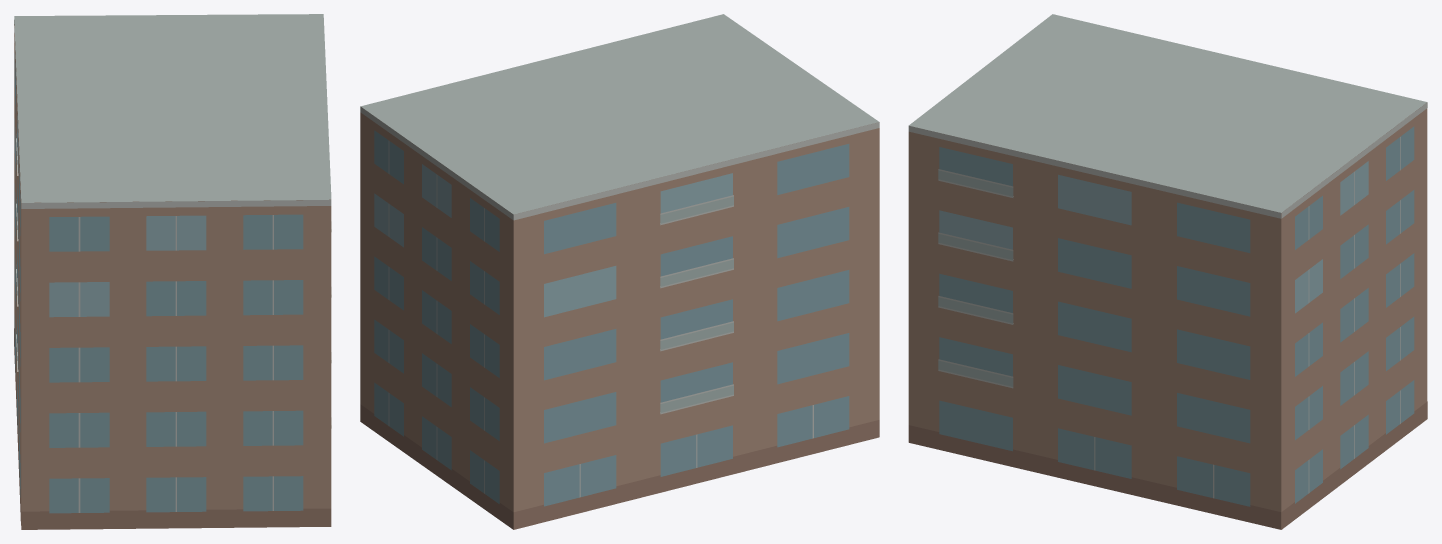
File: survey-upis-32877623.glb
3 views of the same model, side by side, from view 1: azimuth 30°, elevation 25°; view 2: azimuth 150°, elevation 25°; view 3: azimuth 270°, elevation 25° (orthographic). The views are drawn at different scales.
Parts seen in each view (by area): view 1: survey-upis-32877623.tmp; view 2: survey-upis-32877623.tmp; view 3: survey-upis-32877623.tmp.
Boxes of the visible parts, x1,y1,x2,y2 form: survey-upis-32877623.tmp: (14,14,331,529); survey-upis-32877623.tmp: (360,14,879,529); survey-upis-32877623.tmp: (908,14,1427,529).
Bounding box in the file's own units: 17.5 × 13 × 19.29.
